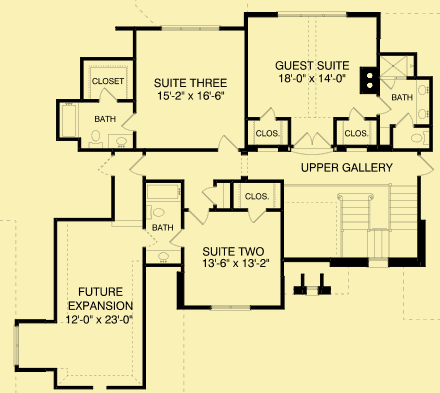door: (292, 131, 332, 153), (415, 151, 435, 177), (213, 133, 240, 152), (185, 206, 210, 225), (124, 155, 146, 175), (118, 111, 137, 133), (170, 228, 189, 249), (375, 96, 393, 117), (198, 184, 215, 206), (246, 208, 268, 224), (256, 105, 275, 123), (97, 86, 117, 103), (346, 106, 366, 122), (394, 113, 414, 126), (381, 76, 397, 91)
large_sink: (408, 128, 429, 146), (144, 204, 166, 221), (86, 129, 105, 148)
small_sink: (413, 80, 430, 125), (143, 248, 183, 267), (107, 133, 134, 149)
stairs: (335, 184, 420, 262)
tub: (144, 183, 182, 203), (59, 100, 79, 138)
window: (277, 8, 349, 19), (159, 21, 222, 32), (8, 322, 21, 367), (208, 301, 252, 314)
